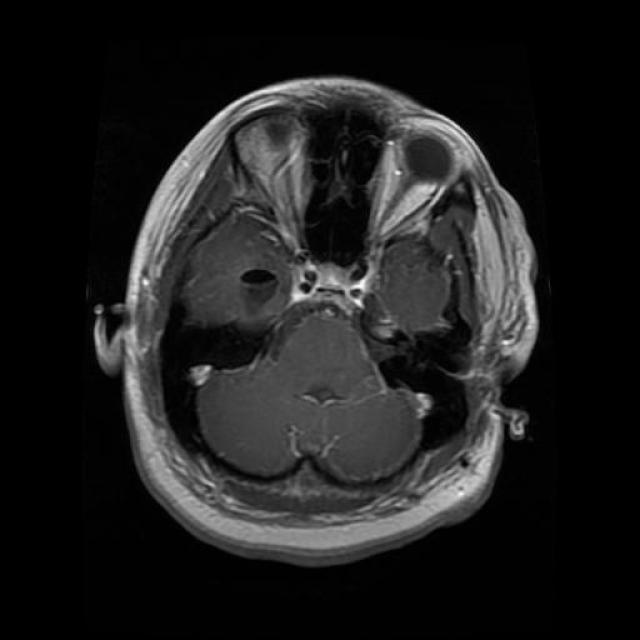glioma: (270, 239, 383, 336)
